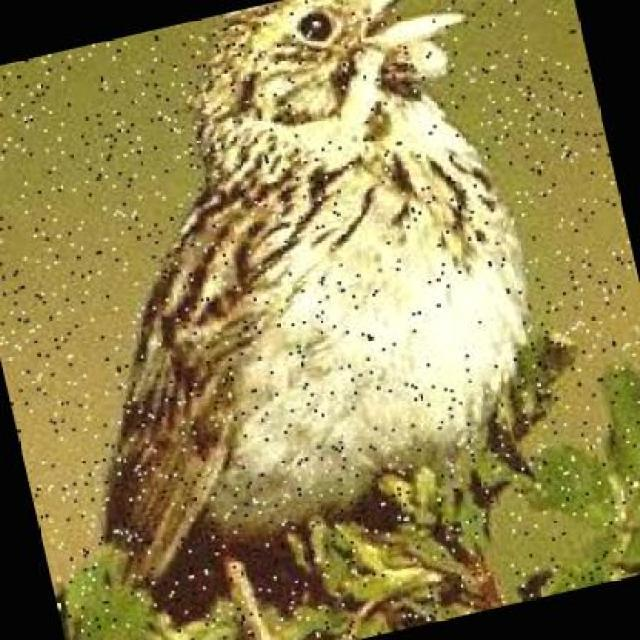Bird: (87, 0, 561, 622)
